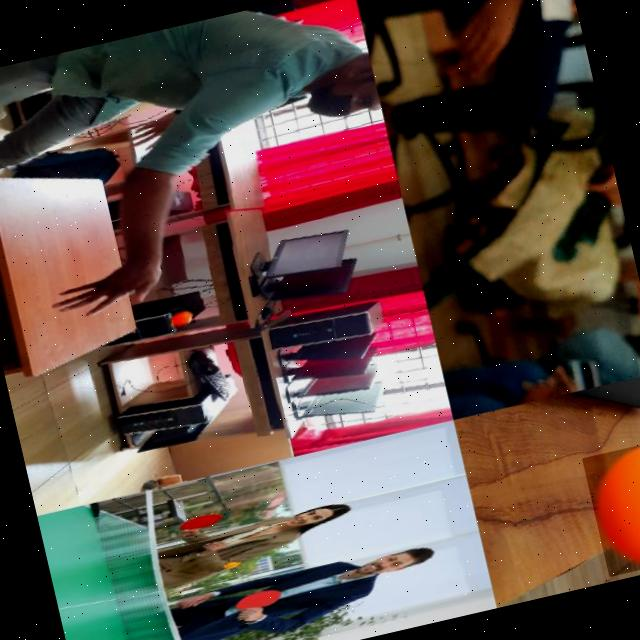ping-pong-ball: (579, 435, 640, 578), (168, 304, 196, 328), (224, 559, 240, 566)
